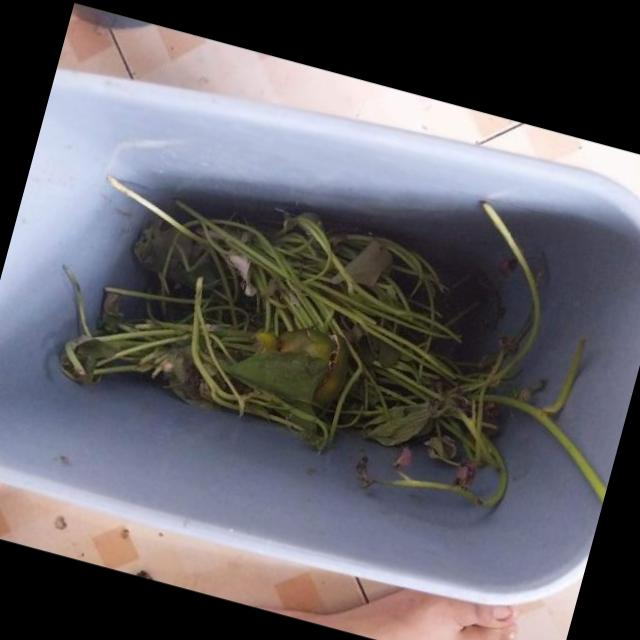vo_rau_cu: (59, 176, 608, 508)
